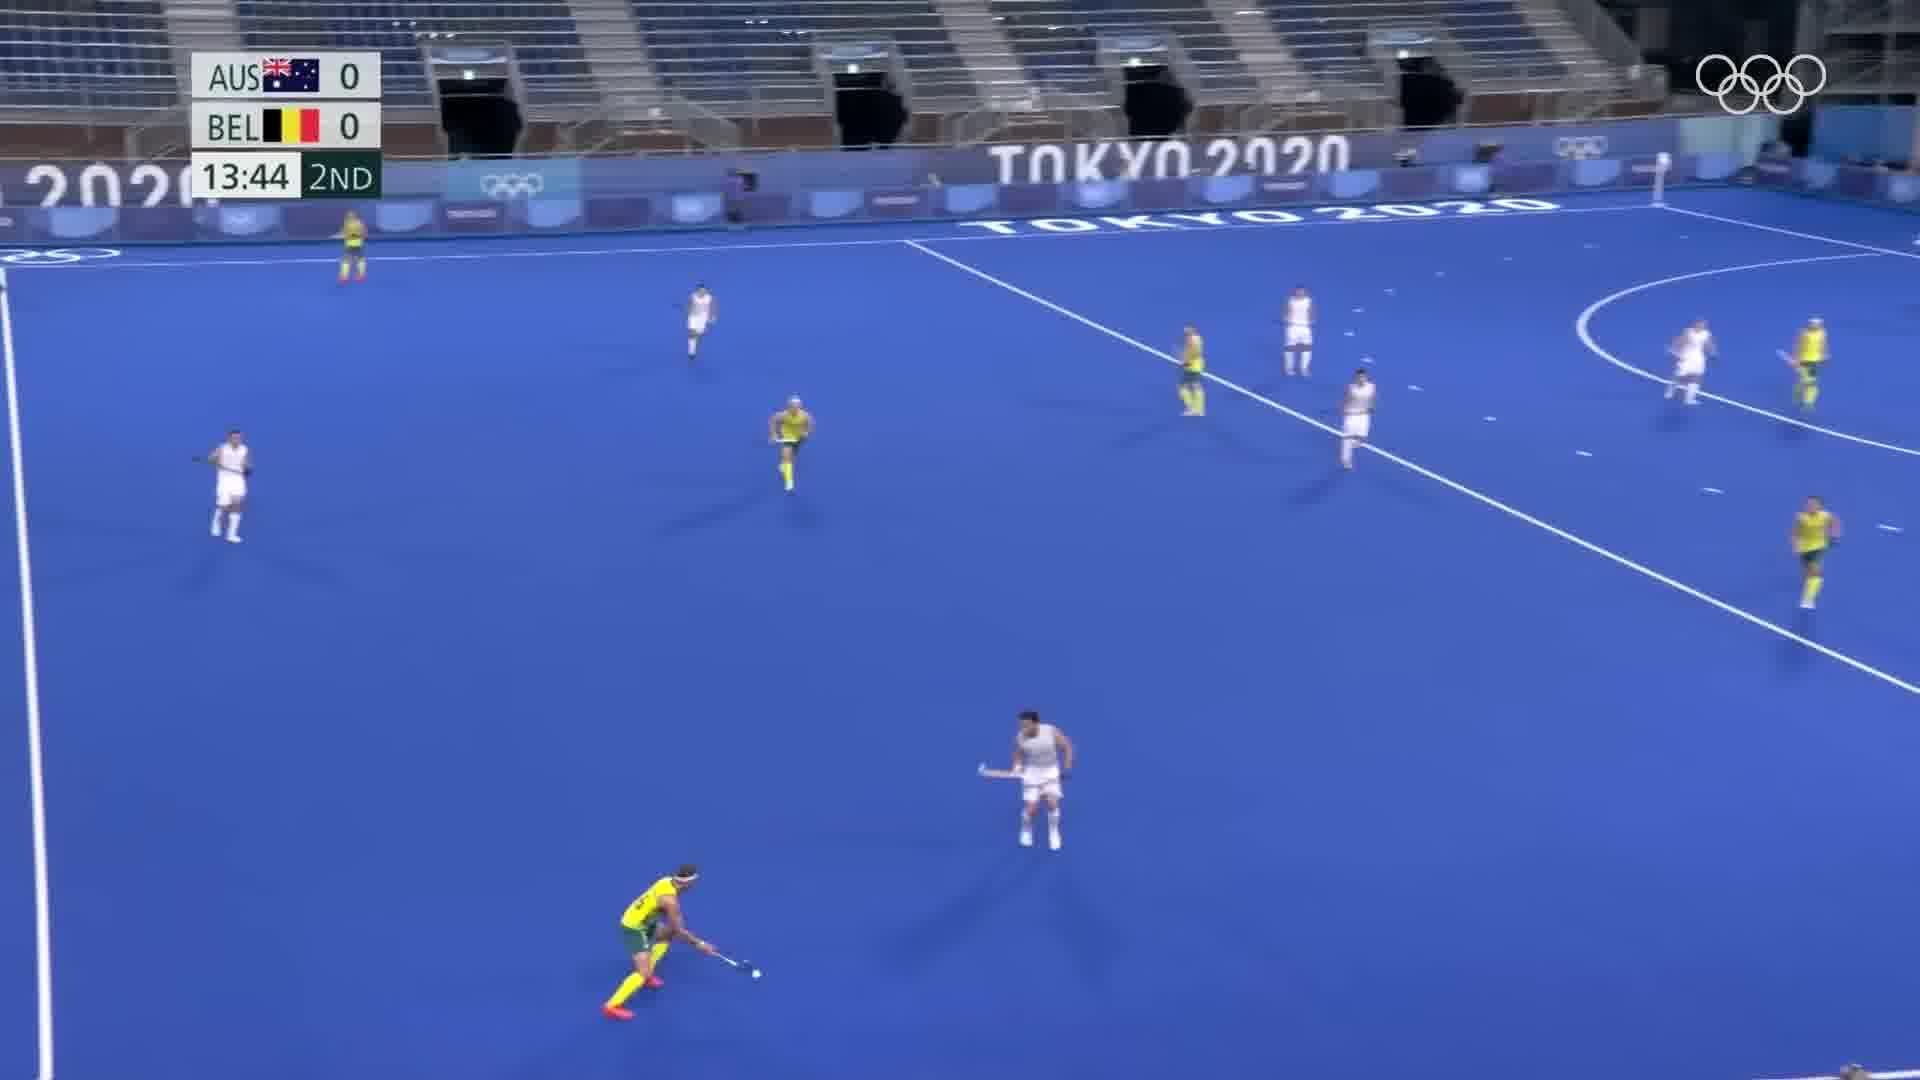ball: (748, 963, 767, 986)
